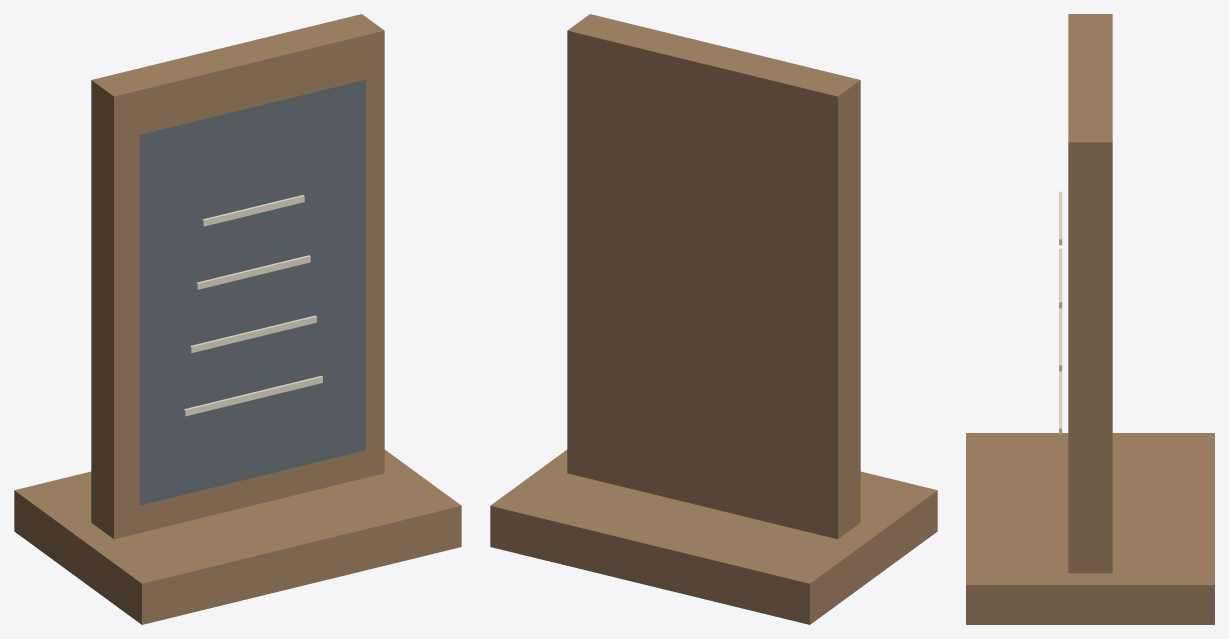
Rendered from q01-menu.glb.
3 views of the same model, side by side, from view 1: azimuth 30°, elevation 25°; view 2: azimuth 150°, elevation 25°; view 3: azimuth 270°, elevation 25° (orthographic). The views are drawn at different scales.
Size of the model in its own units: 0.65 by 0.94 by 0.45.
